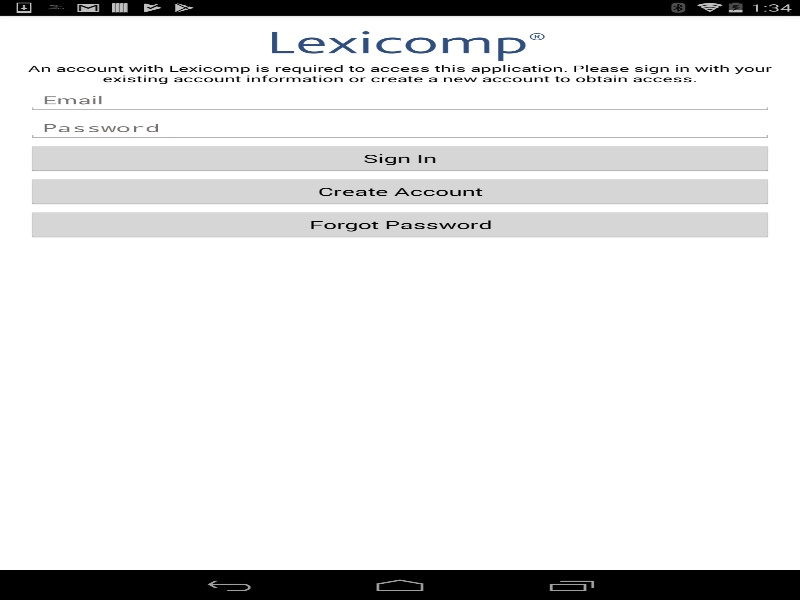Button: (26, 143, 773, 173), (26, 176, 773, 206), (26, 209, 773, 239)
Input: (26, 87, 773, 112), (26, 115, 773, 140)
